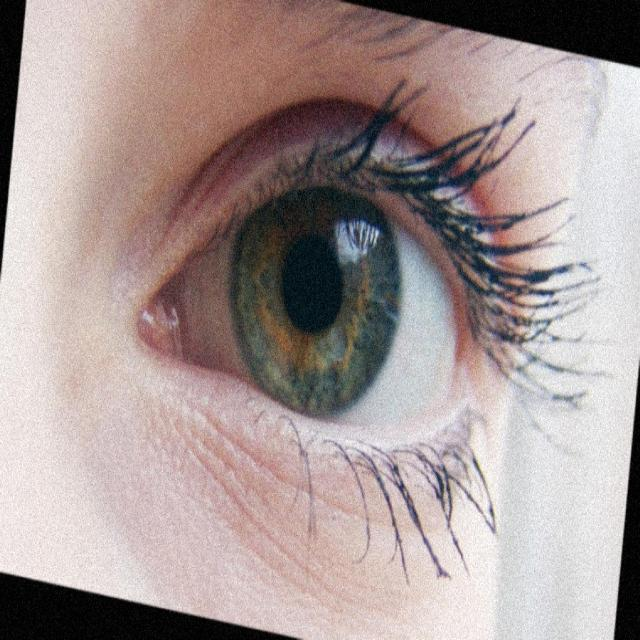Healthy-Eye: (121, 106, 548, 556)
